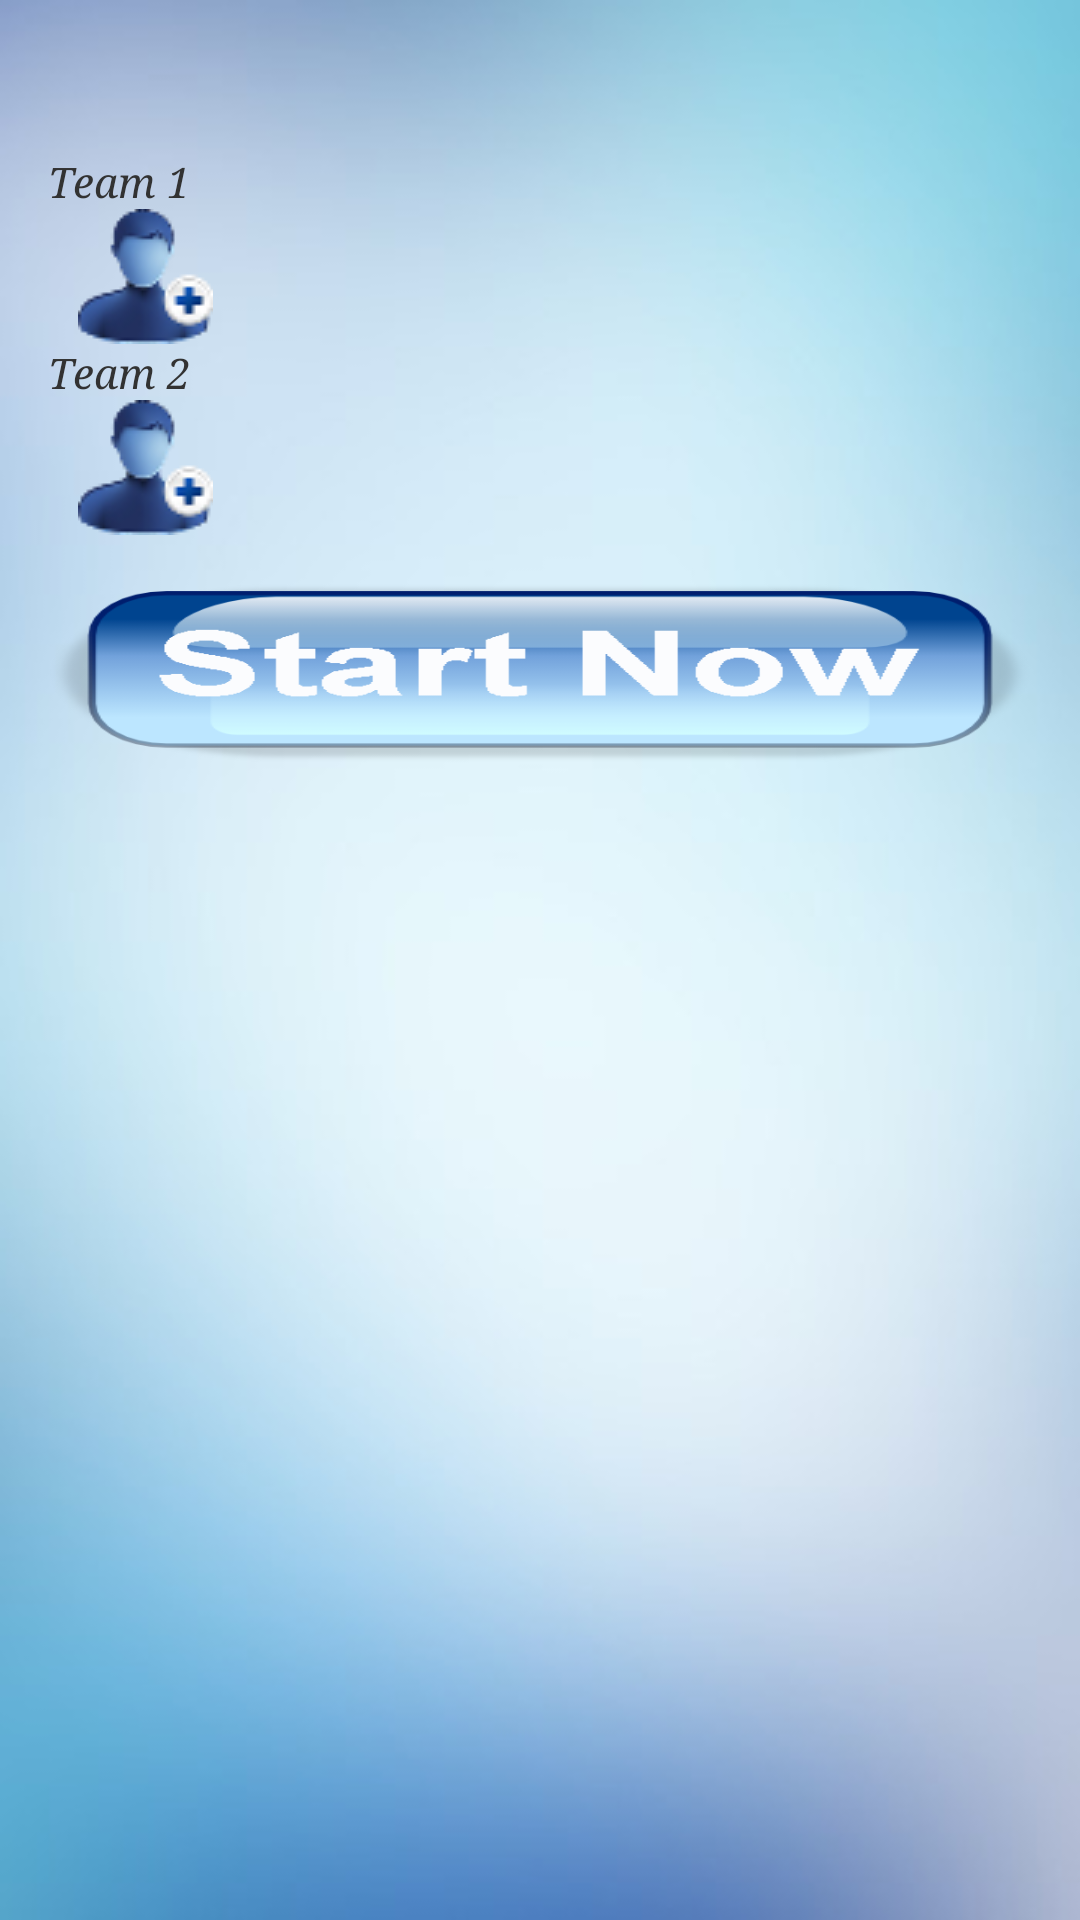

Icon bounding boxes for this 1080x1920 phone screenshot, format rect(x1, y1, x2, y2):
add: rect(78, 209, 213, 344), rect(78, 400, 213, 535)
